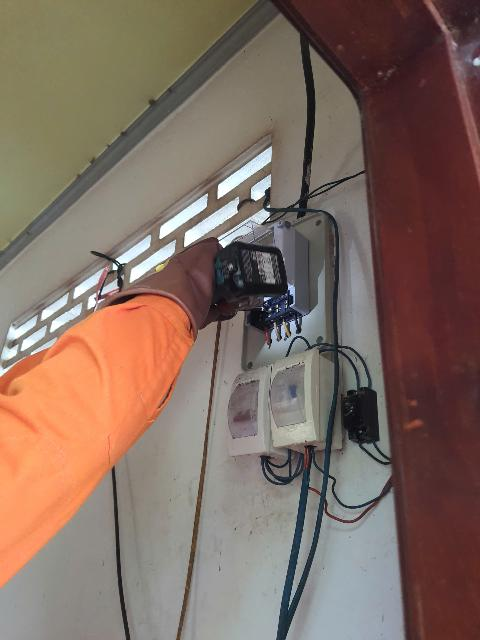gloves: (113, 233, 271, 361)
